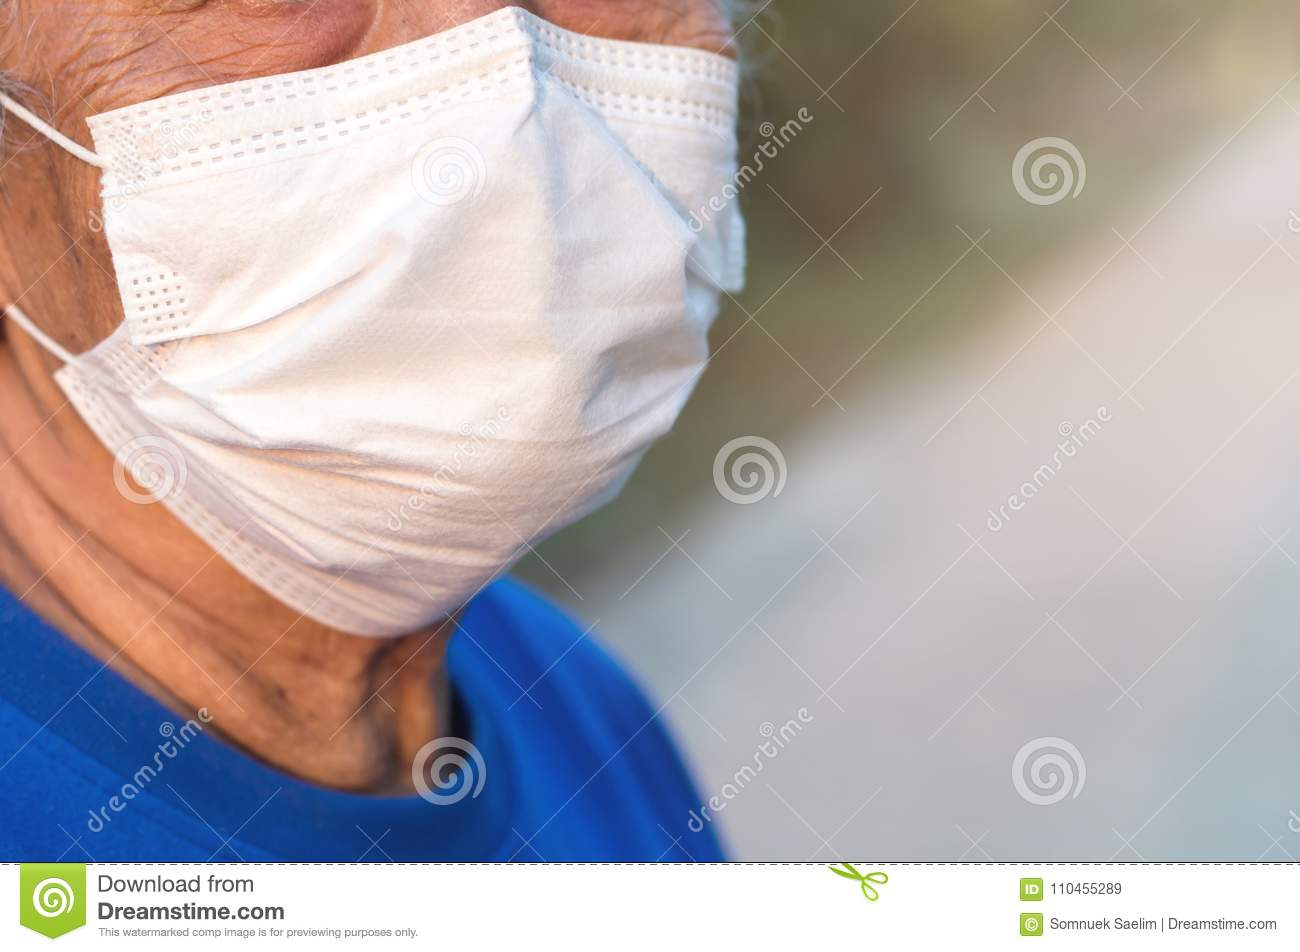mask: (117, 57, 683, 587)
